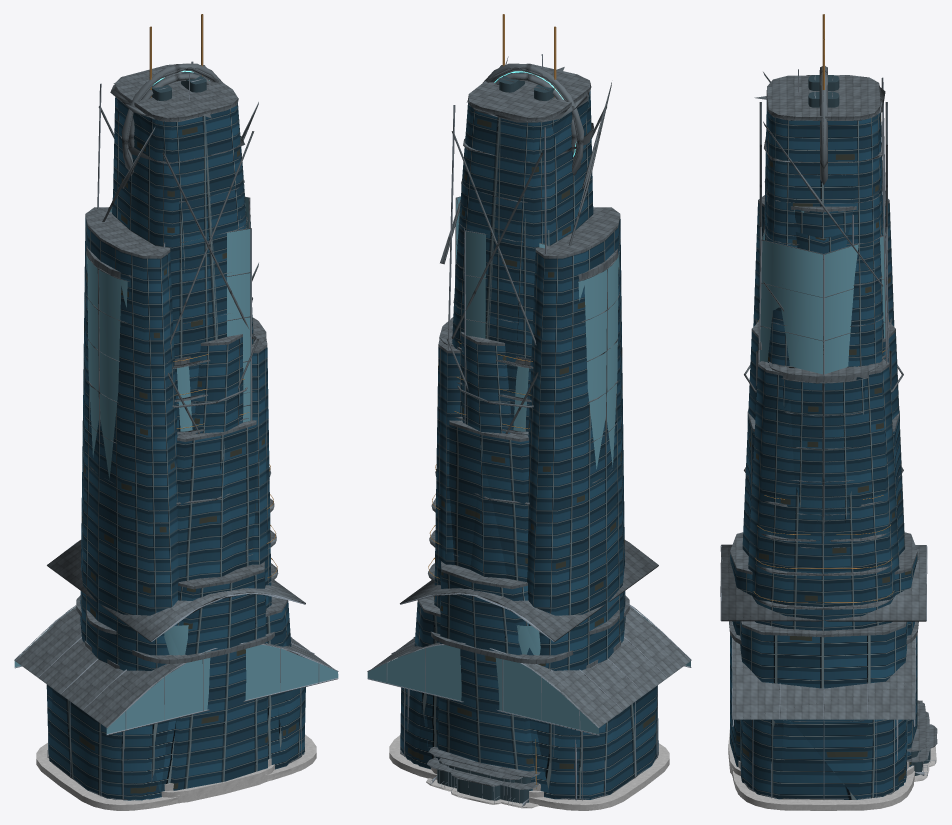
File: city-modules-low.glb
The picture shows the model from 3 angles, left to right: view 1: azimuth 30°, elevation 25°; view 2: azimuth 150°, elevation 25°; view 3: azimuth 270°, elevation 25°; orthographic projection.
Parts seen in each view (by area): view 1: split_office_far_Blue laminated glazing, transit_station_far_Blue laminated glazing, lattice_tower_far_Blue laminated glazing, terrace_residence_far_Blue laminated glazing, expo_hall_near_Coated architectural alloy.001, lattice_tower_near_Blue laminated glazing, spindle_office_far_Blue laminated glazing, expo_hall_near_Silver blue glazing.001, expo_hall_near_Blue laminated glazing.001, lattice_tower_near_Blue laminated glazing.001, split_office_near_Silver blue glazing, expo_hall_near_Blue laminated glazing (+19 smaller); view 2: split_office_far_Blue laminated glazing, transit_station_far_Blue laminated glazing, lattice_tower_near_Blue laminated glazing, lattice_tower_far_Blue laminated glazing, terrace_residence_far_Blue laminated glazing, expo_hall_near_Coated architectural alloy.001, expo_hall_near_Silver blue glazing, spindle_office_far_Blue laminated glazing, expo_hall_near_Blue laminated glazing.001, lattice_tower_near_Coated architectural alloy.001, expo_hall_near_Blue laminated glazing, split_office_near_Silver blue glazing.001 (+22 smaller); view 3: split_office_far_Blue laminated glazing, lattice_tower_near_Blue laminated glazing.001, expo_hall_near_Coated architectural alloy.001, expo_hall_near_Blue laminated glazing.001, expo_hall_far_Blue laminated glazing, split_office_near_Blue laminated glazing, lattice_tower_near_Blue laminated glazing, blade_tower_near_Silver blue glazing, lattice_tower_near_Coated architectural alloy.001, expo_hall_near_Blue laminated glazing, blade_tower_near_Silver blue glazing.001, split_office_near_Blue laminated glazing.001 (+23 smaller).
Part boxes in pixels (x1=…): split_office_far_Blue laminated glazing: x1=80, y1=217, x2=271, y2=670; transit_station_far_Blue laminated glazing: x1=170, y1=566, x2=268, y2=790; lattice_tower_far_Blue laminated glazing: x1=112, y1=97, x2=209, y2=435; terrace_residence_far_Blue laminated glazing: x1=177, y1=424, x2=256, y2=581; expo_hall_near_Coated architectural alloy.001: x1=14, y1=606, x2=334, y2=799; lattice_tower_near_Blue laminated glazing: x1=119, y1=103, x2=253, y2=373; spindle_office_far_Blue laminated glazing: x1=193, y1=337, x2=243, y2=578; expo_hall_near_Silver blue glazing.001: x1=15, y1=607, x2=337, y2=733; expo_hall_near_Blue laminated glazing.001: x1=49, y1=687, x2=305, y2=800; lattice_tower_near_Blue laminated glazing.001: x1=116, y1=98, x2=253, y2=429; split_office_near_Silver blue glazing: x1=86, y1=255, x2=127, y2=479; expo_hall_near_Blue laminated glazing: x1=46, y1=684, x2=305, y2=800; split_office_far_Blue laminated glazing: x1=434, y1=218, x2=625, y2=670; transit_station_far_Blue laminated glazing: x1=437, y1=567, x2=535, y2=790; lattice_tower_near_Blue laminated glazing: x1=452, y1=103, x2=586, y2=429; lattice_tower_far_Blue laminated glazing: x1=496, y1=90, x2=593, y2=435; terrace_residence_far_Blue laminated glazing: x1=449, y1=424, x2=528, y2=581; expo_hall_near_Coated architectural alloy.001: x1=372, y1=606, x2=691, y2=799; expo_hall_near_Silver blue glazing: x1=367, y1=612, x2=690, y2=734; spindle_office_far_Blue laminated glazing: x1=461, y1=336, x2=512, y2=578; expo_hall_near_Blue laminated glazing.001: x1=400, y1=686, x2=656, y2=799; lattice_tower_near_Coated architectural alloy.001: x1=443, y1=56, x2=611, y2=321; expo_hall_near_Blue laminated glazing: x1=403, y1=686, x2=658, y2=799; split_office_near_Silver blue glazing.001: x1=579, y1=259, x2=619, y2=469; split_office_far_Blue laminated glazing: x1=748, y1=203, x2=899, y2=630; lattice_tower_near_Blue laminated glazing.001: x1=764, y1=102, x2=883, y2=366; expo_hall_near_Coated architectural alloy.001: x1=732, y1=638, x2=925, y2=798; expo_hall_near_Blue laminated glazing.001: x1=741, y1=719, x2=906, y2=799; expo_hall_far_Blue laminated glazing: x1=740, y1=621, x2=907, y2=783; split_office_near_Blue laminated glazing: x1=782, y1=379, x2=865, y2=551; lattice_tower_near_Blue laminated glazing: x1=765, y1=111, x2=883, y2=366; blade_tower_near_Silver blue glazing: x1=759, y1=228, x2=885, y2=374; lattice_tower_near_Coated architectural alloy.001: x1=763, y1=72, x2=883, y2=367; expo_hall_near_Blue laminated glazing: x1=741, y1=719, x2=905, y2=799; blade_tower_near_Silver blue glazing.001: x1=763, y1=233, x2=886, y2=363; split_office_near_Blue laminated glazing.001: x1=783, y1=380, x2=855, y2=533.
Bounding box in the file's own units: 36.07 × 110 × 29.63.
Materials: 9 (4 with a texture image).
